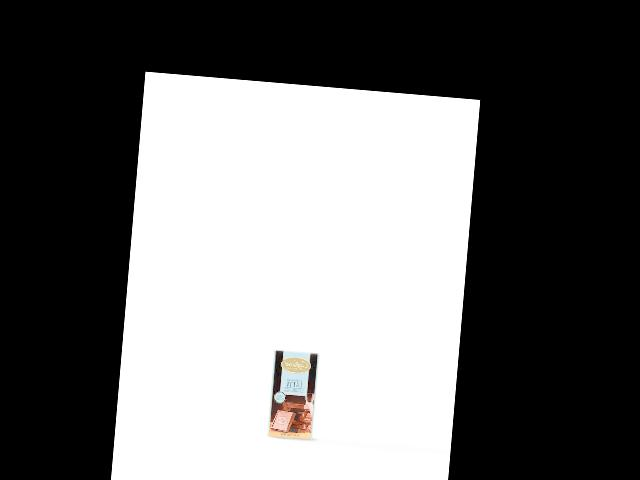chocolate: (266, 348, 321, 441)
